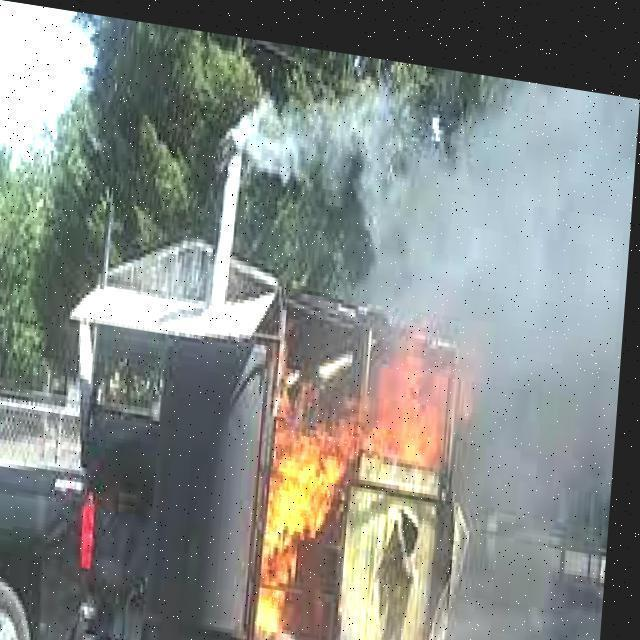Fire: (253, 351, 376, 639), (372, 315, 478, 476)
